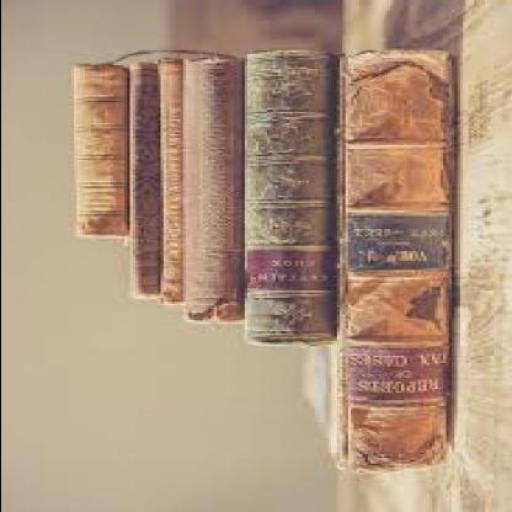paper: (294, 52, 454, 475), (238, 50, 336, 348), (177, 60, 243, 326), (67, 66, 126, 238), (123, 62, 160, 302), (154, 59, 184, 305)
